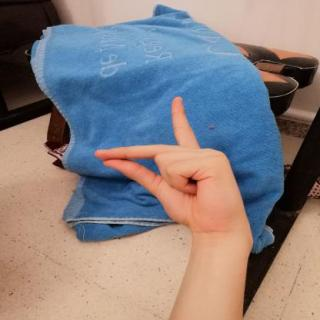TAA: (83, 87, 253, 240)
